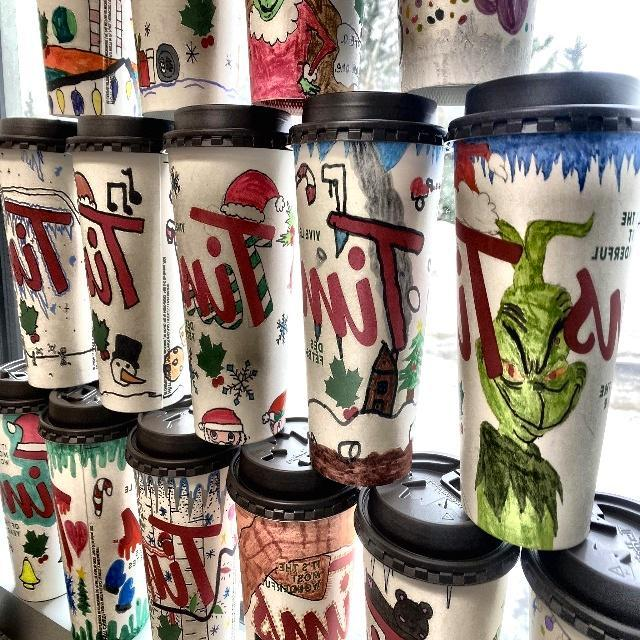timmies: (444, 67, 640, 556), (294, 89, 441, 495), (162, 100, 299, 450), (64, 108, 192, 420), (220, 410, 360, 640), (122, 395, 242, 640), (34, 386, 148, 640), (0, 112, 99, 390), (0, 354, 75, 608)
